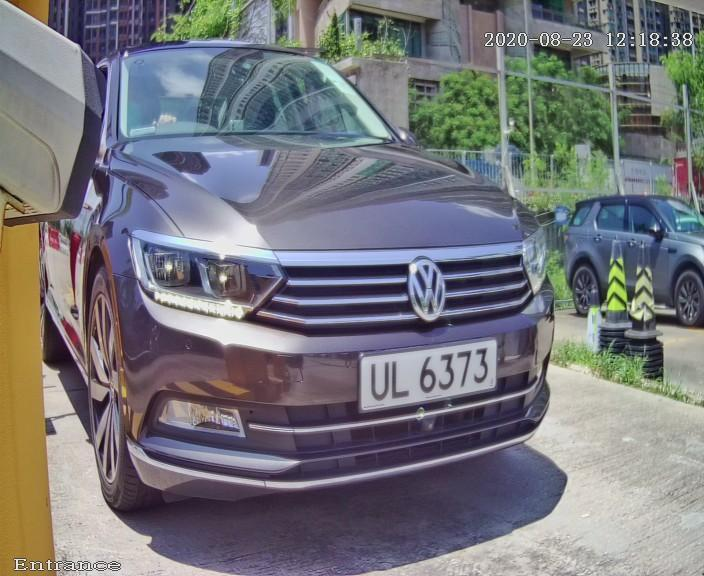Car: (7, 6, 623, 538)
License Plate: (343, 335, 507, 417)
